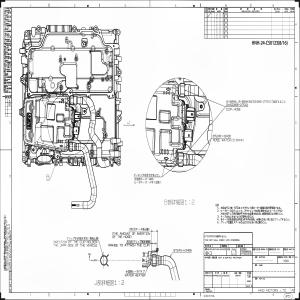PartNumber: (173, 248, 192, 252), (212, 134, 231, 138), (230, 103, 248, 107)
